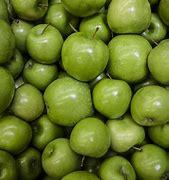apple: (42, 80, 98, 127), (103, 39, 156, 87), (59, 31, 108, 81), (101, 110, 148, 158), (133, 85, 169, 131), (40, 140, 82, 174), (68, 119, 108, 154), (30, 24, 68, 59), (17, 55, 58, 86), (95, 153, 140, 180), (0, 119, 37, 150), (12, 0, 62, 22)
